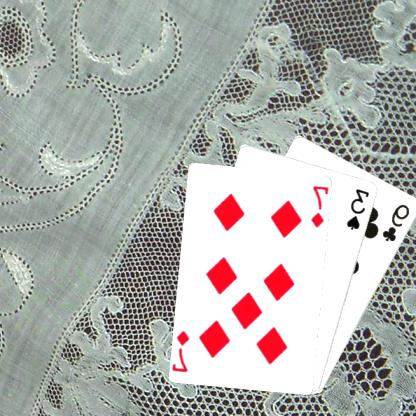3S: (345, 186, 373, 231)
7D: (310, 183, 330, 229), (174, 328, 192, 372)
9C: (382, 201, 414, 243)
